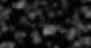eight: (38, 20, 44, 28), (59, 20, 65, 28)
nine: (66, 20, 72, 28)
one: (17, 20, 23, 28)
seven: (31, 20, 37, 28), (52, 20, 58, 28)
six: (24, 20, 30, 28)
two: (45, 20, 51, 28)
